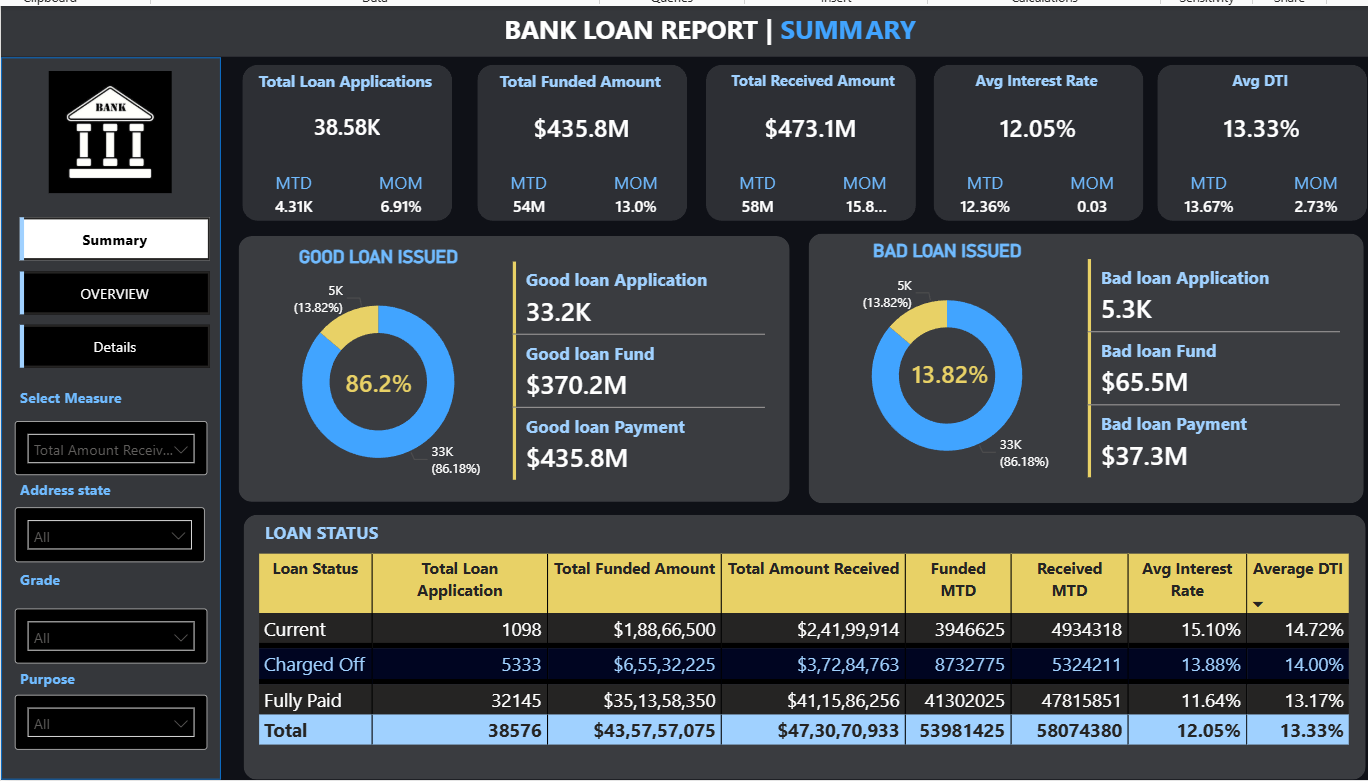

The dashboard page shown, as its layout file describes it:
{"tool":"powerbi","page":{"name":"Summary","canvas":[1280,720],"ordinal":0},"visuals":[{"type":"shape","box":[0,47.7,204.7,672.1],"z":0},{"type":"shape","box":[224.4,54.7,195.3,145.3],"z":0,"group":"g1"},{"type":"shape","box":[443,54.7,195.3,145.3],"z":0,"group":"g2"},{"type":"shape","box":[655.8,54.7,195.3,145.3],"z":0,"group":"g5"},{"type":"shape","box":[867.4,54.7,195.3,145.3],"z":0,"group":"g3"},{"type":"shape","box":[1075.6,54.7,195.3,145.3],"z":0,"group":"g4"},{"type":"shape","box":[225.6,473.3,1044,246.5],"z":1000},{"type":"shape","box":[220.9,214,512.8,247.4],"z":2000},{"type":"donutChart","title":"GOOD LOAN ISSUED","fields":{"Category":["bank_loan_db financial_loan.Good loan vs Bad loan"],"Y":["bank_loan_db financial_loan.Total_loan_application"]},"box":[224.4,223.3,253.5,233.7],"z":3000},{"type":"shape","box":[0,0,1280,47.5],"z":4000},{"type":"cardVisual","fields":{"Data":["bank_loan_db financial_loan.Total_loan_application"]},"box":[240.7,85.1,162.8,52.8],"z":4000,"group":"g1"},{"type":"cardVisual","fields":{"Data":["bank_loan_db financial_loan.Total Fundede Amountn"]},"box":[459.3,85.1,162.8,52.8],"z":4000,"group":"g2"},{"type":"cardVisual","fields":{"Data":["bank_loan_db financial_loan.Total Amount Received"]},"box":[672.1,85.1,162.8,52.8],"z":4000,"group":"g5"},{"type":"cardVisual","fields":{"Data":["bank_loan_db financial_loan.Avg Interest Rate"]},"box":[883.7,85.1,162.8,52.8],"z":4000,"group":"g3"},{"type":"cardVisual","fields":{"Data":["bank_loan_db financial_loan.Total DTI"]},"box":[1091.9,85.1,162.8,52.8],"z":4000,"group":"g4"},{"type":"textbox","box":[375,0,570,48.8],"z":5000},{"type":"textbox","box":[224.4,54.7,191.6,30.4],"z":5000,"group":"g1"},{"type":"textbox","box":[443,54.7,191.6,30.4],"z":5000,"group":"g2"},{"type":"textbox","box":[655.8,54.7,191.6,30.4],"z":5000,"group":"g5"},{"type":"textbox","box":[867.4,54.7,191.6,30.4],"z":5000,"group":"g3"},{"type":"textbox","box":[1075.6,54.7,191.6,30.4],"z":5000,"group":"g4"},{"type":"group","id":"g1","title":"Group 1","box":[224.4,54.7,195.3,155.8],"z":6000},{"type":"cardVisual","fields":{"Data":["bank_loan_db financial_loan.MTD"]},"box":[224.4,137.9,96.4,72.6],"z":6000,"group":"g1"},{"type":"cardVisual","fields":{"Data":["bank_loan_db financial_loan.Funded MTD"]},"box":[443,137.9,96.4,72.6],"z":6000,"group":"g2"},{"type":"cardVisual","fields":{"Data":["bank_loan_db financial_loan.Received MTD"]},"box":[655.8,137.9,96.4,72.6],"z":6000,"group":"g5"},{"type":"cardVisual","fields":{"Data":["bank_loan_db financial_loan.Int MTD"]},"box":[867.4,137.9,96.4,72.6],"z":6000,"group":"g3"},{"type":"cardVisual","fields":{"Data":["bank_loan_db financial_loan.DTI MTD"]},"box":[1075.6,137.9,96.4,72.6],"z":6000,"group":"g4"},{"type":"cardVisual","fields":{"Data":["bank_loan_db financial_loan.MOM"]},"box":[325.8,137.9,93.9,72.6],"z":7000,"group":"g1"},{"type":"cardVisual","fields":{"Data":["bank_loan_db financial_loan.Funded MoM"]},"box":[544.4,137.9,93.9,72.6],"z":7000,"group":"g2"},{"type":"cardVisual","fields":{"Data":["bank_loan_db financial_loan.Received MOM"]},"box":[757.2,137.9,93.9,72.6],"z":7000,"group":"g5"},{"type":"cardVisual","fields":{"Data":["bank_loan_db financial_loan.INT MOM"]},"box":[968.8,137.9,93.9,72.6],"z":7000,"group":"g3"},{"type":"cardVisual","fields":{"Data":["bank_loan_db financial_loan.DTI MOM"]},"box":[1177,137.9,93.9,72.6],"z":7000,"group":"g4"},{"type":"cardVisual","fields":{"Data":["bank_loan_db financial_loan.Good loan %"]},"box":[283.7,322.1,136,53.5],"z":7000},{"type":"group","id":"g2","title":"Group 1","box":[443,54.7,195.3,155.8],"z":8000},{"type":"group","id":"g3","title":"Group 1","box":[867.4,54.7,195.3,155.8],"z":9000},{"type":"group","id":"g4","title":"Group 1","box":[1075.6,54.7,195.3,155.8],"z":10000},{"type":"group","id":"g5","title":"Group 1","box":[655.8,54.7,195.3,155.8],"z":11000},{"type":"shape","box":[750.9,211.6,516.5,250.9],"z":12000},{"type":"cardVisual","fields":{"Data":["bank_loan_db financial_loan.Good loan Applicaitonp","bank_loan_db financial_loan.Good loan  Fund","bank_loan_db financial_loan.Good loan Payment"]},"box":[459.1,220.9,268.6,237.2],"z":13000},{"type":"donutChart","title":"BAD LOAN ISSUED","fields":{"Category":["bank_loan_db financial_loan.Good loan vs Bad loan"],"Y":["bank_loan_db financial_loan.Total_loan_application"]},"box":[757,217.4,246.5,233.7],"z":14000},{"type":"cardVisual","fields":{"Data":["bank_loan_db financial_loan.Bad loan %"]},"box":[815.1,314,136,53.5],"z":15000},{"type":"cardVisual","fields":{"Data":["bank_loan_db financial_loan.Bad loan Application","bank_loan_db financial_loan.Bad loan  Fund","bank_loan_db financial_loan.Bad loan Payment"]},"box":[994.2,218.6,268.6,237.2],"z":16000},{"type":"tableEx","fields":{"Values":["bank_loan_db financial_loan.loan_status","bank_loan_db financial_loan.Total_loan_application","bank_loan_db financial_loan.Total Funded Amount","bank_loan_db financial_loan.Total Amount Received","bank_loan_db financial_loan.Funded MTD","bank_loan_db financial_loan.Received MTD","bank_loan_db financial_loan.Avg Interest Rate","bank_loan_db financial_loan.Total DTI"]},"box":[233.7,504.7,1029.1,215.1],"z":17000},{"type":"textbox","box":[240.7,473.3,132.6,31.4],"z":18000},{"type":"slicer","fields":{"Values":["bank_loan_db financial_loan.address_state"]},"box":[13,466.7,176.7,51.2],"z":19000},{"type":"slicer","fields":{"Values":["bank_loan_db financial_loan.purpose"]},"box":[13,641.2,179.1,51.2],"z":20000},{"type":"slicer","fields":{"Values":["bank_loan_db financial_loan.grade"]},"box":[12.8,560.5,179.1,51.2],"z":21000},{"type":"textbox","box":[13,520.2,150,29.1],"z":22000},{"type":"textbox","box":[13,612.1,144.2,29.1],"z":23000},{"type":"textbox","box":[13,436.5,118.6,29.1],"z":24000},{"type":"slicer","fields":{"Values":["Select Measure.Select Measure"]},"box":[13,386.5,179.1,50],"z":25000},{"type":"textbox","box":[13,350.5,144.2,31.4],"z":26000},{"type":"pageNavigator","box":[17.7,197,177.9,141.9],"z":27000},{"type":"image","box":[37.2,60.5,129.1,114],"z":28000}]}

Visuals, with their boxes on the page's 1280x720 design canvas (x1, y1, x2, y2). These are canvas units, not pixel positions in the 1368x781 screenshot, which may show the page scaled, cropped or inside an application window:
shape: locate(0, 48, 205, 720)
shape: locate(224, 55, 420, 200)
shape: locate(443, 55, 638, 200)
shape: locate(656, 55, 851, 200)
shape: locate(867, 55, 1063, 200)
shape: locate(1076, 55, 1271, 200)
shape: locate(226, 473, 1270, 720)
shape: locate(221, 214, 734, 461)
"GOOD LOAN ISSUED" donutChart: locate(224, 223, 478, 457)
shape: locate(0, 0, 1280, 48)
cardVisual - bank_loan_db financial_loan.Total_loan_application: locate(241, 85, 404, 138)
cardVisual - bank_loan_db financial_loan.Total Fundede Amountn: locate(459, 85, 622, 138)
cardVisual - bank_loan_db financial_loan.Total Amount Received: locate(672, 85, 835, 138)
cardVisual - bank_loan_db financial_loan.Avg Interest Rate: locate(884, 85, 1046, 138)
cardVisual - bank_loan_db financial_loan.Total DTI: locate(1092, 85, 1255, 138)
textbox: locate(375, 0, 945, 49)
textbox: locate(224, 55, 416, 85)
textbox: locate(443, 55, 635, 85)
textbox: locate(656, 55, 847, 85)
textbox: locate(867, 55, 1059, 85)
textbox: locate(1076, 55, 1267, 85)
"Group 1" group: locate(224, 55, 420, 210)
cardVisual - bank_loan_db financial_loan.MTD: locate(224, 138, 321, 210)
cardVisual - bank_loan_db financial_loan.Funded MTD: locate(443, 138, 539, 210)
cardVisual - bank_loan_db financial_loan.Received MTD: locate(656, 138, 752, 210)
cardVisual - bank_loan_db financial_loan.Int MTD: locate(867, 138, 964, 210)
cardVisual - bank_loan_db financial_loan.DTI MTD: locate(1076, 138, 1172, 210)
cardVisual - bank_loan_db financial_loan.MOM: locate(326, 138, 420, 210)
cardVisual - bank_loan_db financial_loan.Funded MoM: locate(544, 138, 638, 210)
cardVisual - bank_loan_db financial_loan.Received MOM: locate(757, 138, 851, 210)
cardVisual - bank_loan_db financial_loan.INT MOM: locate(969, 138, 1063, 210)
cardVisual - bank_loan_db financial_loan.DTI MOM: locate(1177, 138, 1271, 210)
cardVisual - bank_loan_db financial_loan.Good loan %: locate(284, 322, 420, 376)
"Group 1" group: locate(443, 55, 638, 210)
"Group 1" group: locate(867, 55, 1063, 210)
"Group 1" group: locate(1076, 55, 1271, 210)
"Group 1" group: locate(656, 55, 851, 210)
shape: locate(751, 212, 1267, 462)
cardVisual - bank_loan_db financial_loan.Good loan Applicaitonp x bank_loan_db financial_loan.Good loan  Fund: locate(459, 221, 728, 458)
"BAD LOAN ISSUED" donutChart: locate(757, 217, 1004, 451)
cardVisual - bank_loan_db financial_loan.Bad loan %: locate(815, 314, 951, 368)
cardVisual - bank_loan_db financial_loan.Bad loan Application x bank_loan_db financial_loan.Bad loan  Fund: locate(994, 219, 1263, 456)
tableEx - bank_loan_db financial_loan.loan_status x bank_loan_db financial_loan.Total_loan_application: locate(234, 505, 1263, 720)
textbox: locate(241, 473, 373, 505)
slicer - bank_loan_db financial_loan.address_state: locate(13, 467, 190, 518)
slicer - bank_loan_db financial_loan.purpose: locate(13, 641, 192, 692)
slicer - bank_loan_db financial_loan.grade: locate(13, 560, 192, 612)
textbox: locate(13, 520, 163, 549)
textbox: locate(13, 612, 157, 641)
textbox: locate(13, 436, 132, 466)
slicer - Select Measure.Select Measure: locate(13, 386, 192, 436)
textbox: locate(13, 350, 157, 382)
pageNavigator: locate(18, 197, 196, 339)
image: locate(37, 60, 166, 174)
